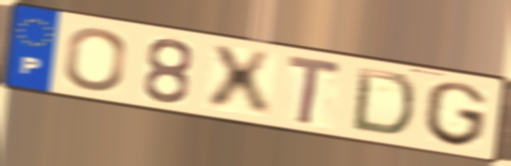8: (141, 36, 195, 105)
D: (348, 64, 418, 139)
G: (422, 79, 490, 150)
O: (61, 26, 129, 93)
T: (284, 51, 346, 129)
X: (207, 43, 275, 119)
